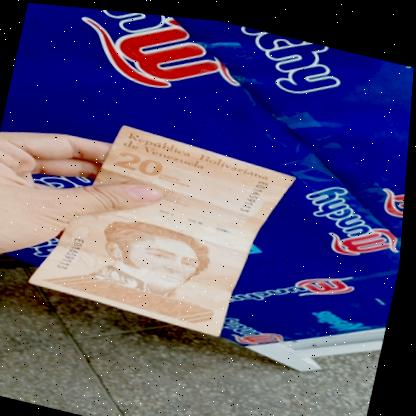twenty-front-vef: (26, 105, 304, 342)
